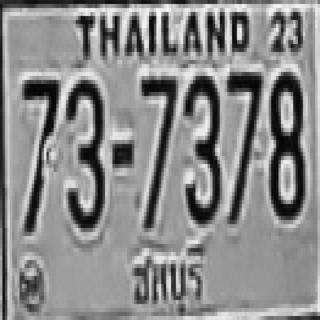N03: (64, 76, 102, 228), (183, 72, 220, 220)
N07: (20, 76, 58, 232), (139, 72, 176, 228), (225, 68, 261, 220), (20, 76, 58, 212), (20, 76, 58, 180), (139, 72, 176, 176)
N08: (267, 68, 304, 216)
P13: (127, 240, 208, 320)
